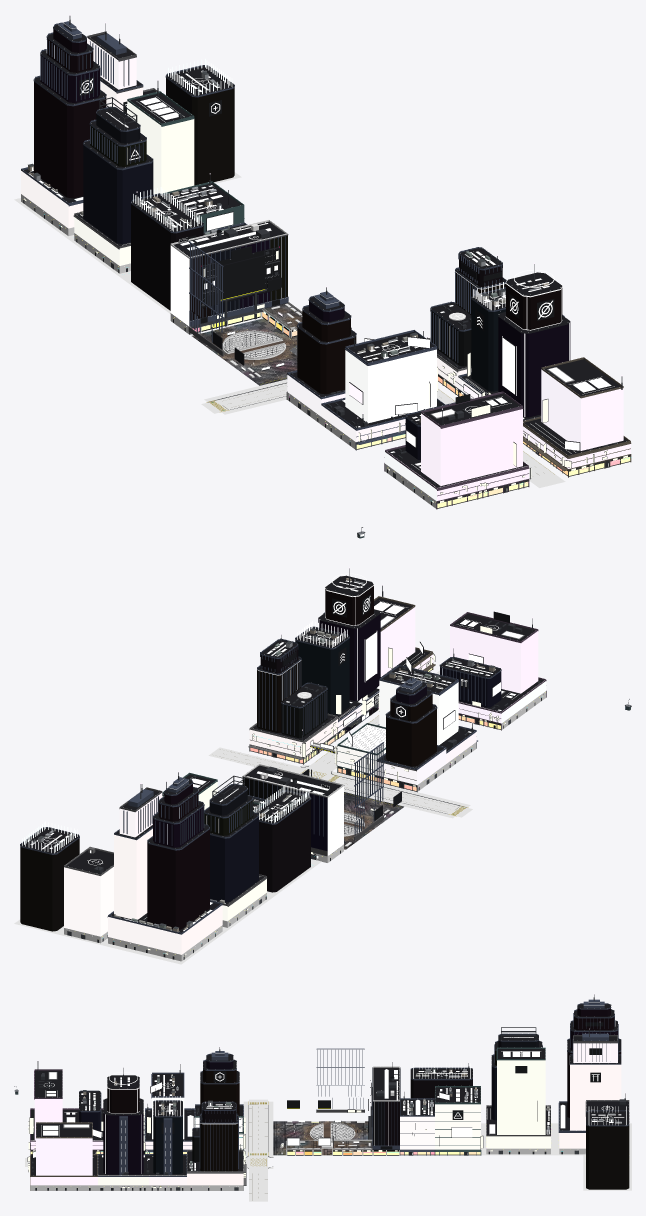
File: world-phone-plaza.glb
3 renders of one model, top to bottom at view 1: azimuth 30°, elevation 25°; view 2: azimuth 150°, elevation 25°; view 3: azimuth 270°, elevation 25°, orthographic. The views are drawn at different scales.
Visible parts, largest first — view 1: plaza_corporate, plaza_facade, plaza_trim, plaza_roof, plaza_glow, plaza_board_frame, plaza_concrete, plaza_paint, plaza_metal, plaza_billboard, plaza_asphalt, plaza_steel (+5 smaller); view 2: plaza_corporate, plaza_facade, plaza_trim, plaza_roof, plaza_glow, plaza_concrete, plaza_asphalt, plaza_board_frame, plaza_sidewalk, plaza_metal, plaza_paint, plaza_steel (+4 smaller); view 3: plaza_facade, plaza_corporate, plaza_roof, plaza_trim, plaza_glow, plaza_concrete, plaza_paint, plaza_board_frame, plaza_asphalt, plaza_sidewalk, plaza_metal, plaza_steel (+6 smaller).
Boxes of the visible parts, bbox=[...] form: plaza_corporate: bbox=[34, 29, 570, 459]; plaza_facade: bbox=[21, 38, 630, 501]; plaza_trim: bbox=[21, 21, 631, 509]; plaza_roof: bbox=[24, 24, 627, 487]; plaza_glow: bbox=[23, 14, 628, 488]; plaza_board_frame: bbox=[61, 77, 625, 502]; plaza_concrete: bbox=[21, 194, 465, 508]; plaza_paint: bbox=[192, 303, 554, 475]; plaza_metal: bbox=[69, 16, 622, 485]; plaza_billboard: bbox=[204, 212, 579, 450]; plaza_asphalt: bbox=[201, 383, 565, 487]; plaza_steel: bbox=[28, 70, 548, 422]; plaza_corporate: bbox=[20, 586, 501, 931]; plaza_facade: bbox=[64, 607, 546, 954]; plaza_trim: bbox=[20, 596, 546, 934]; plaza_roof: bbox=[21, 575, 543, 932]; plaza_glow: bbox=[20, 567, 544, 931]; plaza_concrete: bbox=[64, 691, 545, 961]; plaza_asphalt: bbox=[208, 670, 472, 817]; plaza_board_frame: bbox=[184, 594, 543, 955]; plaza_sidewalk: bbox=[14, 670, 500, 964]; plaza_metal: bbox=[94, 568, 540, 905]; plaza_paint: bbox=[219, 715, 465, 849]; plaza_steel: bbox=[31, 578, 495, 931]; plaza_facade: bbox=[30, 1043, 621, 1185]; plaza_corporate: bbox=[79, 1008, 629, 1189]; plaza_roof: bbox=[31, 1004, 629, 1175]; plaza_trim: bbox=[30, 999, 629, 1190]; plaza_glow: bbox=[30, 993, 626, 1186]; plaza_concrete: bbox=[30, 1066, 585, 1190]; plaza_paint: bbox=[249, 1102, 372, 1200]; plaza_board_frame: bbox=[27, 1022, 603, 1187]; plaza_asphalt: bbox=[25, 1099, 272, 1201]; plaza_sidewalk: bbox=[95, 1101, 631, 1190]; plaza_metal: bbox=[32, 994, 625, 1175]; plaza_steel: bbox=[83, 1068, 621, 1170].
Size of the model in its own units: 191 by 120 by 458.
